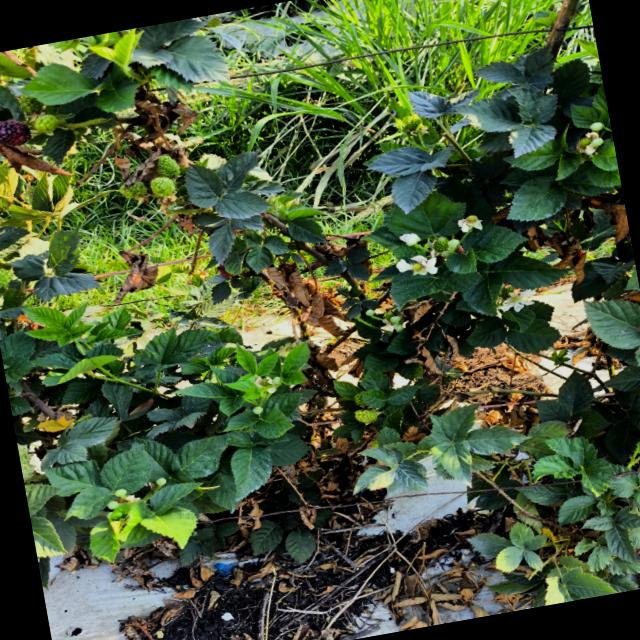marron: (0, 119, 31, 145)
verde: (150, 176, 175, 203), (33, 114, 62, 133), (157, 155, 179, 178), (19, 94, 43, 114), (120, 181, 148, 198), (354, 408, 377, 423), (433, 236, 448, 251), (353, 392, 364, 406)
